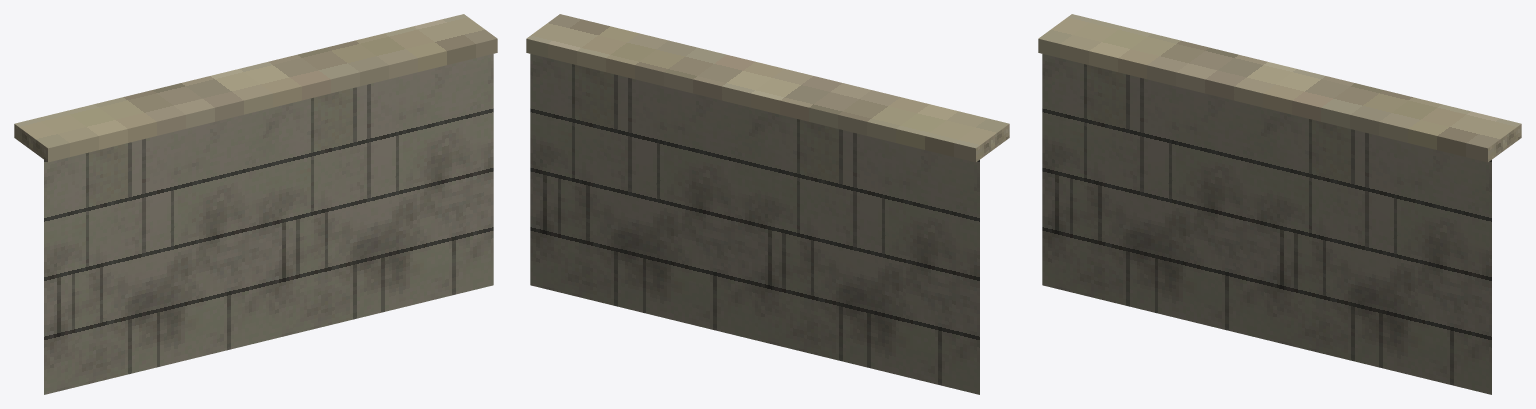
The model's file is wall_low_stone.glb.
The picture shows the model from 3 angles, left to right: view 1: azimuth 30°, elevation 25°; view 2: azimuth 150°, elevation 25°; view 3: azimuth 330°, elevation 25°; orthographic projection.
Parts seen in each view (by area): view 1: wall_low_stone; view 2: wall_low_stone; view 3: wall_low_stone.
Boxes of the visible parts, x1,y1,x2,y2 form: wall_low_stone: (14, 14, 497, 394); wall_low_stone: (526, 14, 1009, 394); wall_low_stone: (1038, 14, 1521, 394).
Bounding box in the file's own units: 2 × 1.06 × 0.26.
1 material, 1 textured.
